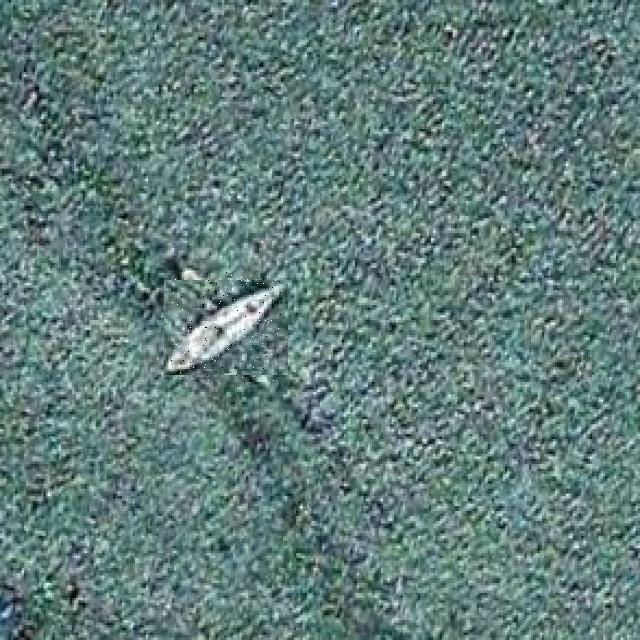boat: (172, 272, 282, 382)
